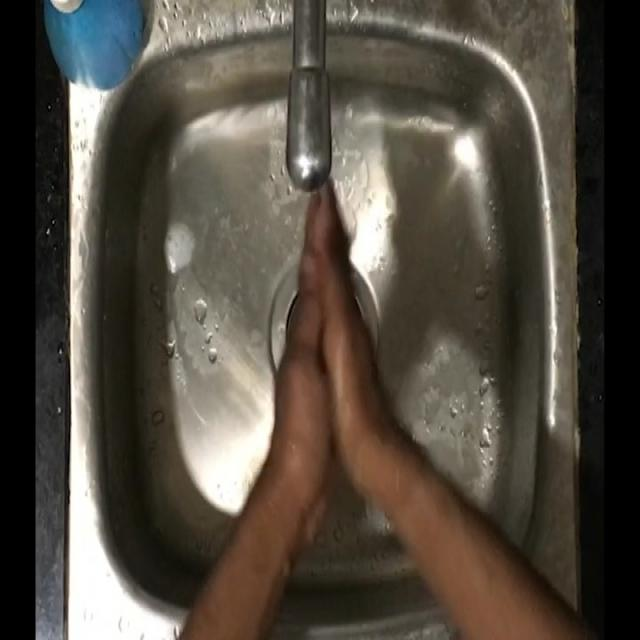step_1: (257, 132, 388, 475)
